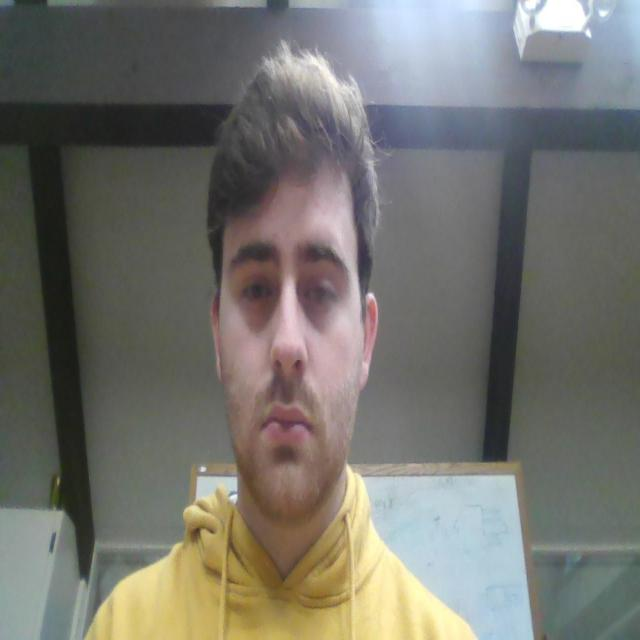eye: (237, 276, 276, 312), (303, 276, 338, 308)
gaze: (314, 284, 325, 302), (254, 282, 263, 299)
